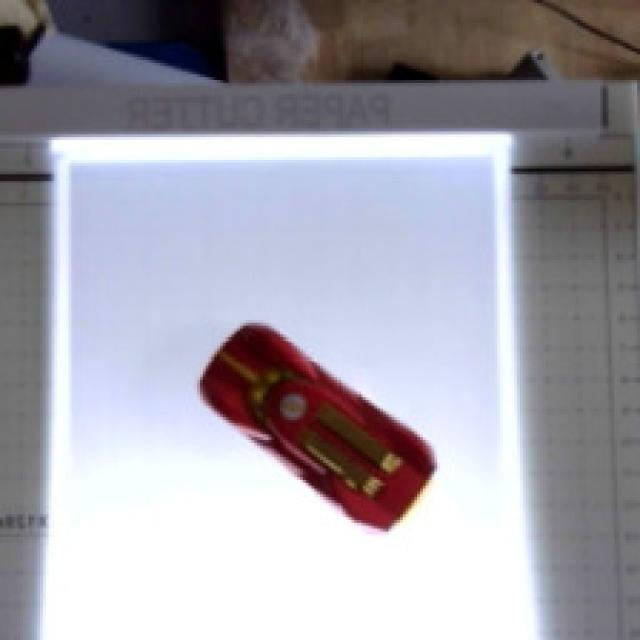Red Car: (181, 273, 456, 582)
